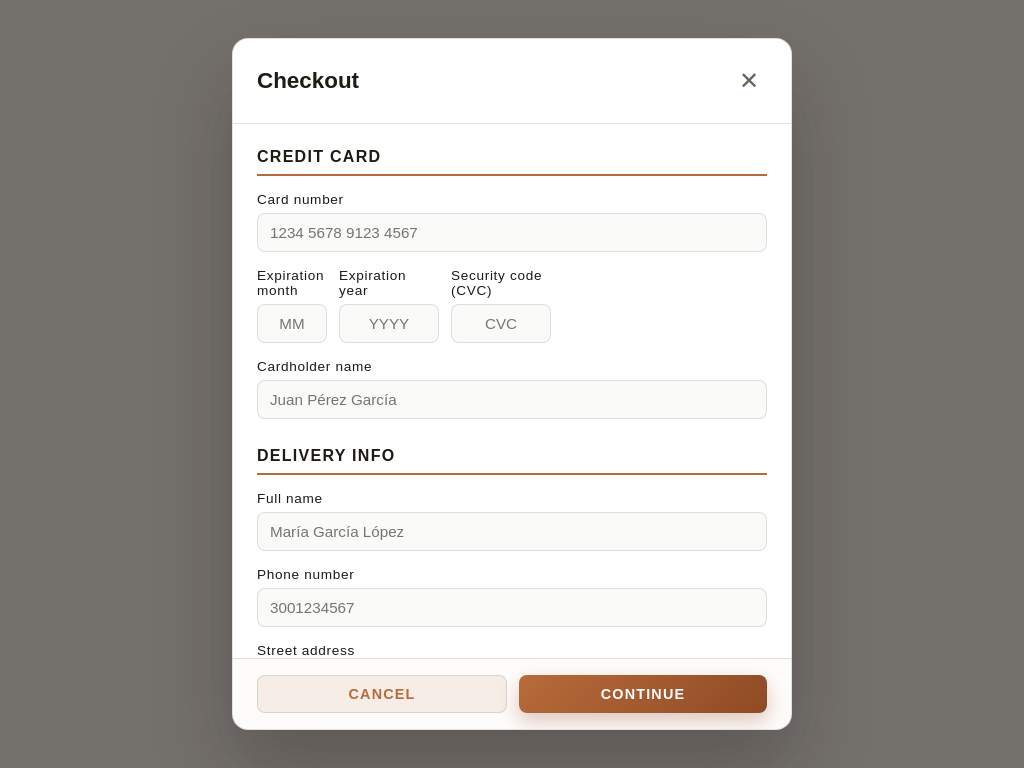
Scenario: CheckoutModal › should show VISA brand label for VISA card
In the field labelled "Card number": (512, 233) [257,213,767,252], type "4111111111111111"
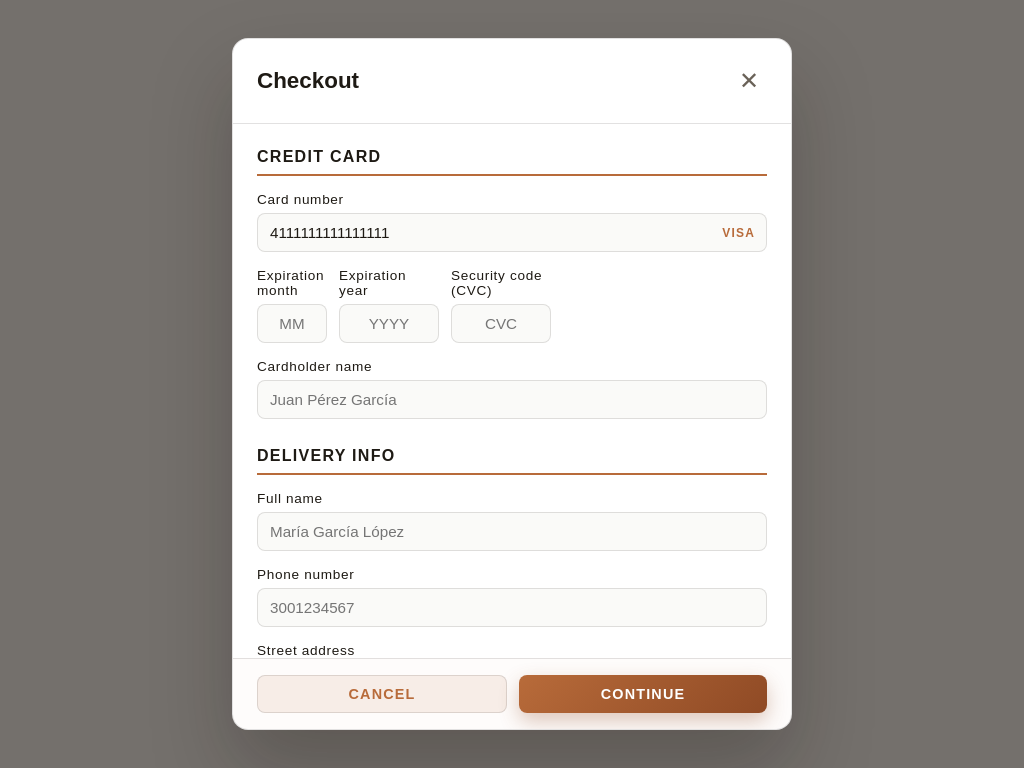
Expected: the text "VISA" is shown, [722,226,755,240]
